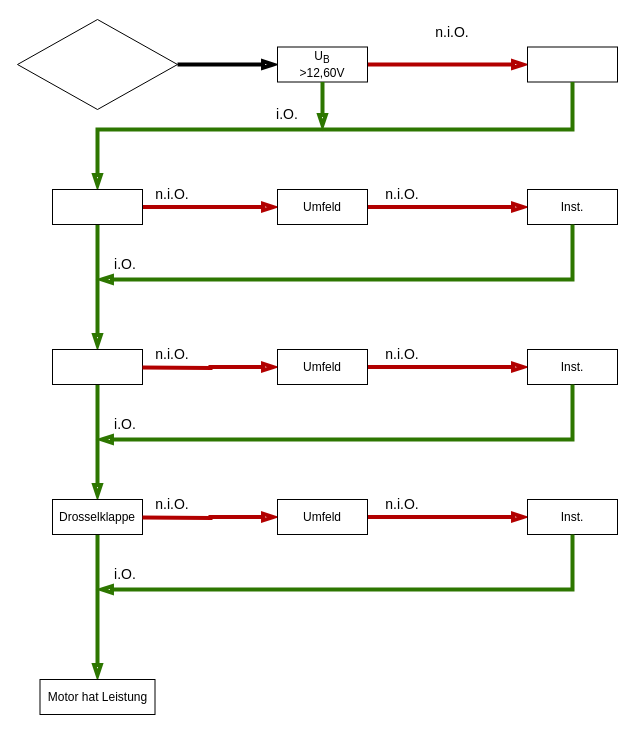
Image size: 635x732. Some labels were removed from this diagram. The shapes that lost their labels are listed below. From the top down, each one's centre as x and y in pixels, then its label:
(97,64): Motor hat keine Leistung
(572,64): U B = U L
(97,206): Fahrpedal
(97,366): Luftmasse
